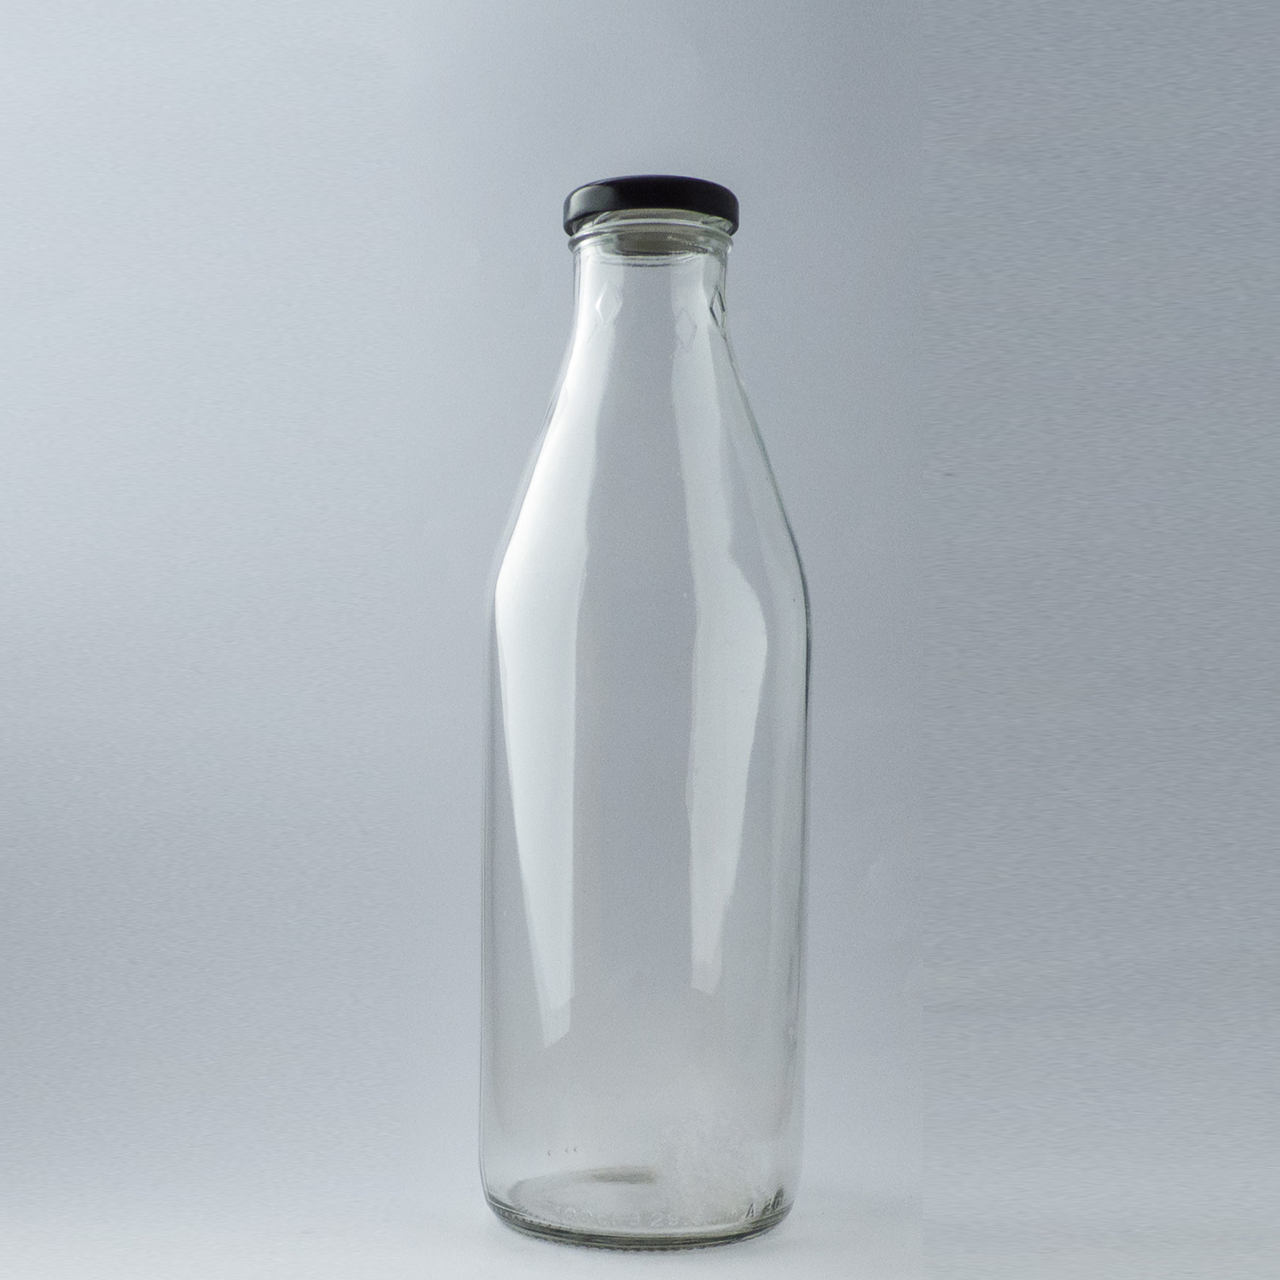glass_bottle: (452, 154, 835, 1265)
